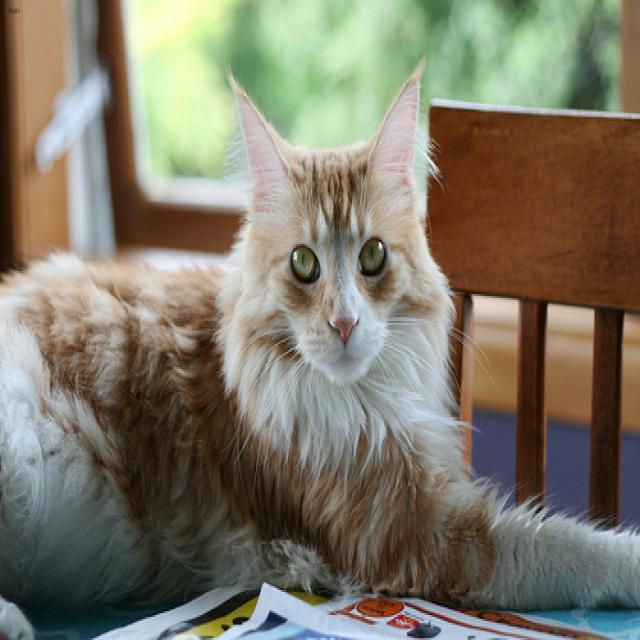Maine_Coon: (225, 66, 421, 383)
